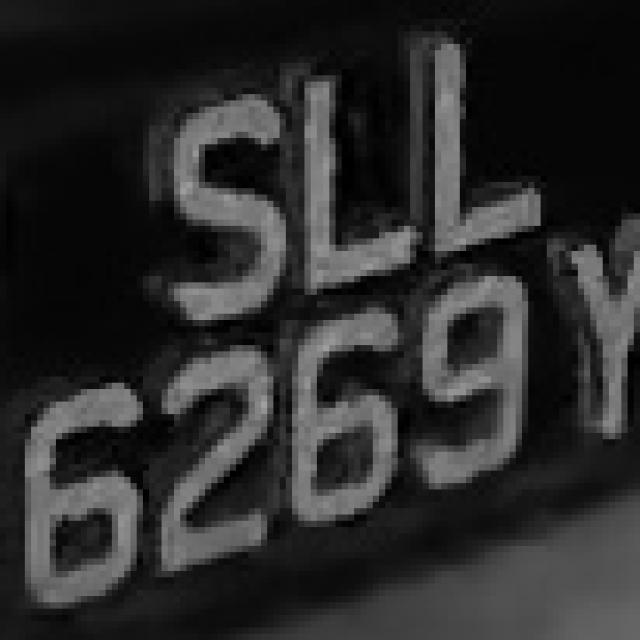2: (124, 345, 298, 571)
6: (279, 288, 392, 558), (25, 358, 137, 628)
9: (398, 270, 546, 502)
L: (273, 63, 429, 295), (398, 44, 559, 245)
S: (149, 75, 298, 308)
Y: (5, 2, 6, 5)
